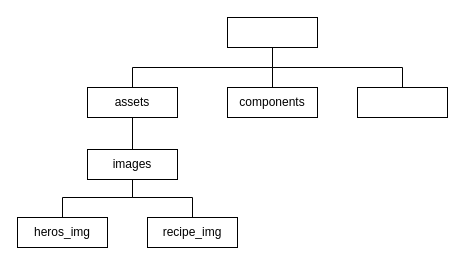
This 465x265 diagram has some shape labels left out. Here are the shapes that lost their labels. From the top down, the centre of each, then its label:
At (272,32): "client/src".
At (402,102): "services".
